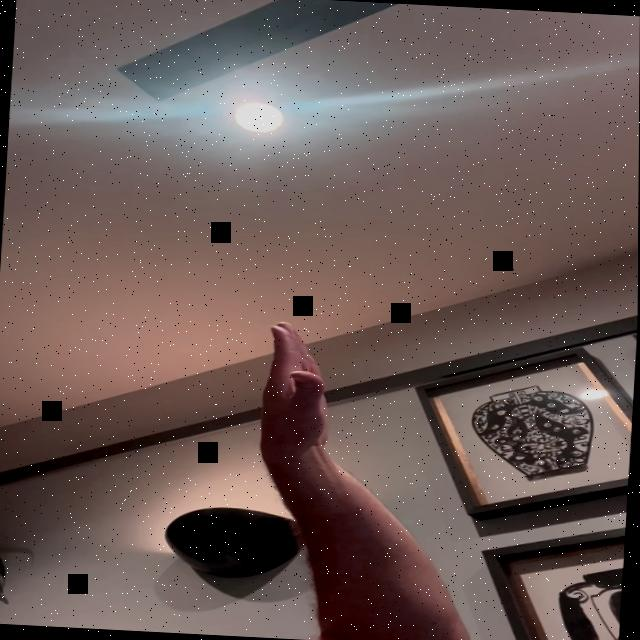Paper: (255, 319, 341, 454)
